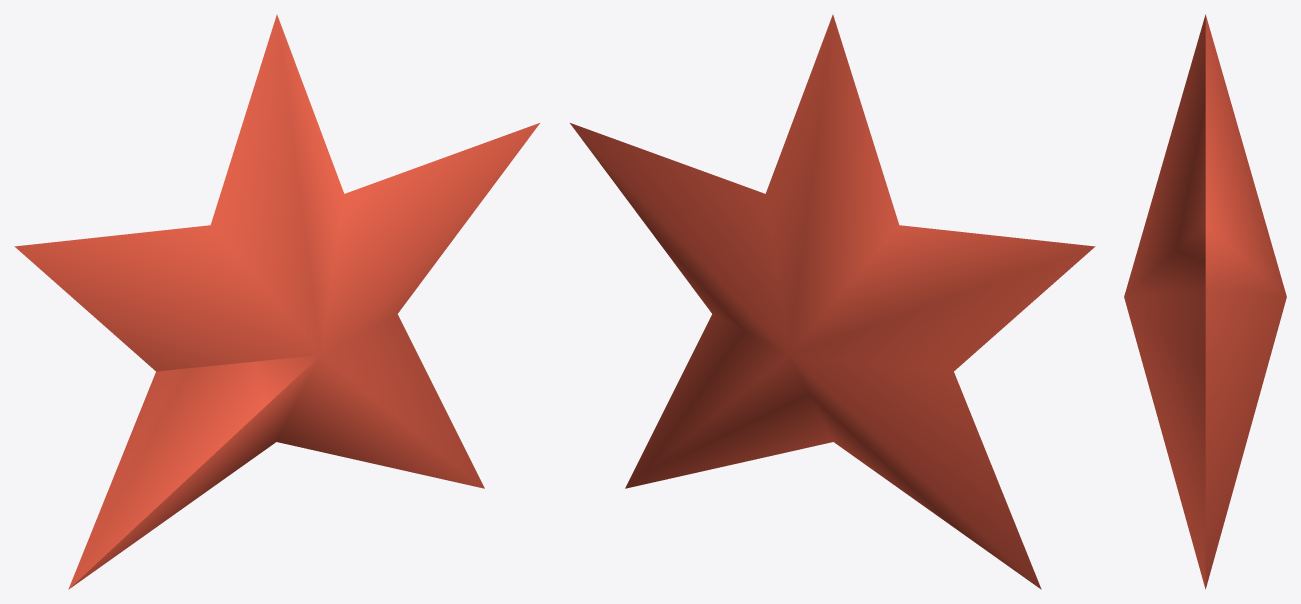
Rendered from Star3.obj.
The picture shows the model from 3 angles, left to right: view 1: azimuth 30°, elevation 25°; view 2: azimuth 150°, elevation 25°; view 3: azimuth 270°, elevation 25°; orthographic projection. The views are drawn at different scales.
Visible parts, largest first — view 1: Star:polySurface1; view 2: Star:polySurface1; view 3: Star:polySurface1.
Part boxes in pixels (x1,y1,x2,y2): Star:polySurface1: [14, 14, 539, 589]; Star:polySurface1: [570, 14, 1095, 589]; Star:polySurface1: [1124, 14, 1286, 589].
Size of the model in its own units: 5.36 by 5.11 by 1.56.
1 material, 1 textured.
